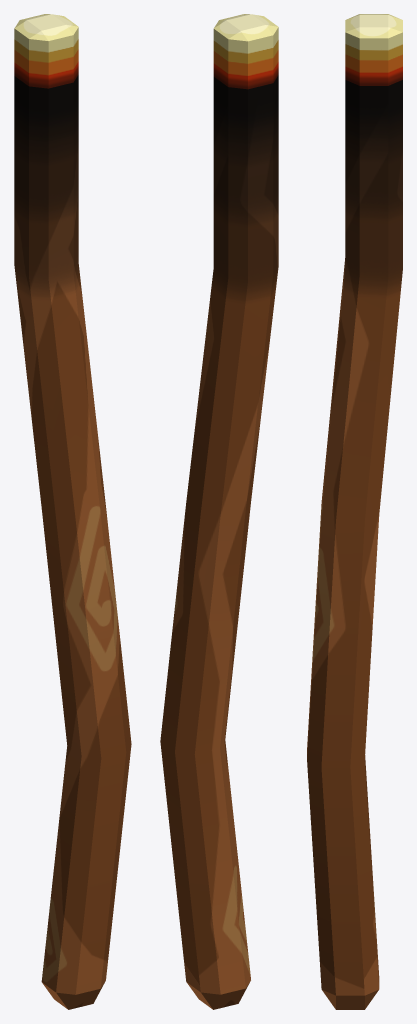
The model's file is Torch.fbx.
3 views of the same model, side by side, from view 1: azimuth 30°, elevation 25°; view 2: azimuth 210°, elevation 25°; view 3: azimuth 270°, elevation 25° (orthographic).
Visible parts, largest first — view 1: pCube2; view 2: pCube2; view 3: pCube2.
Part boxes in pixels (<box>): pCube2: <box>14,14,131,1009</box>; pCube2: <box>160,14,278,1009</box>; pCube2: <box>307,14,402,1009</box>.
Size of the model in its own units: 0.0884 by 0.9845 by 0.0877.
